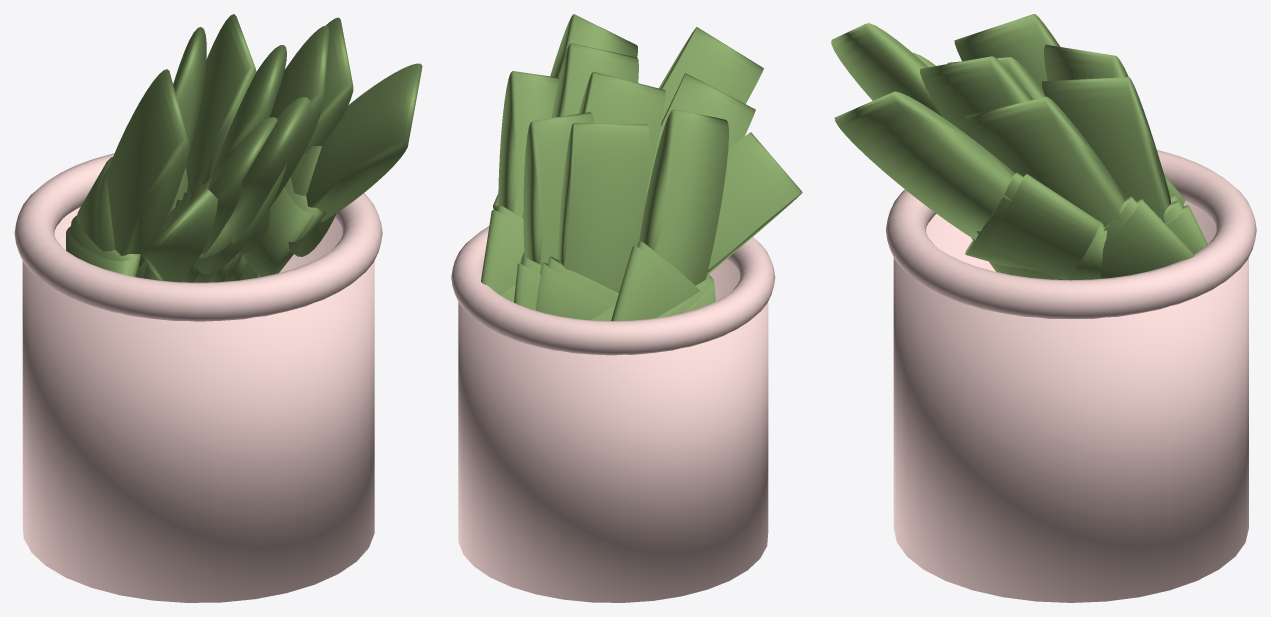
The model's file is leafcontainer5.fbx.
The picture shows the model from 3 angles, left to right: view 1: azimuth 30°, elevation 25°; view 2: azimuth 150°, elevation 25°; view 3: azimuth 270°, elevation 25°; orthographic projection. The views are drawn at different scales.
Visible parts, largest first — view 1: Cylinder.033, Cylinder.039; view 2: Cylinder.033, Cylinder.039; view 3: Cylinder.033, Cylinder.039.
Part boxes in pixels (x1,y1,x2,y2): Cylinder.033: (14, 153, 382, 602); Cylinder.039: (66, 14, 422, 282); Cylinder.033: (451, 226, 775, 602); Cylinder.039: (481, 14, 802, 320); Cylinder.033: (885, 150, 1256, 602); Cylinder.039: (831, 14, 1207, 280).
Bounding box in the file's own units: 133 × 204 × 153.
